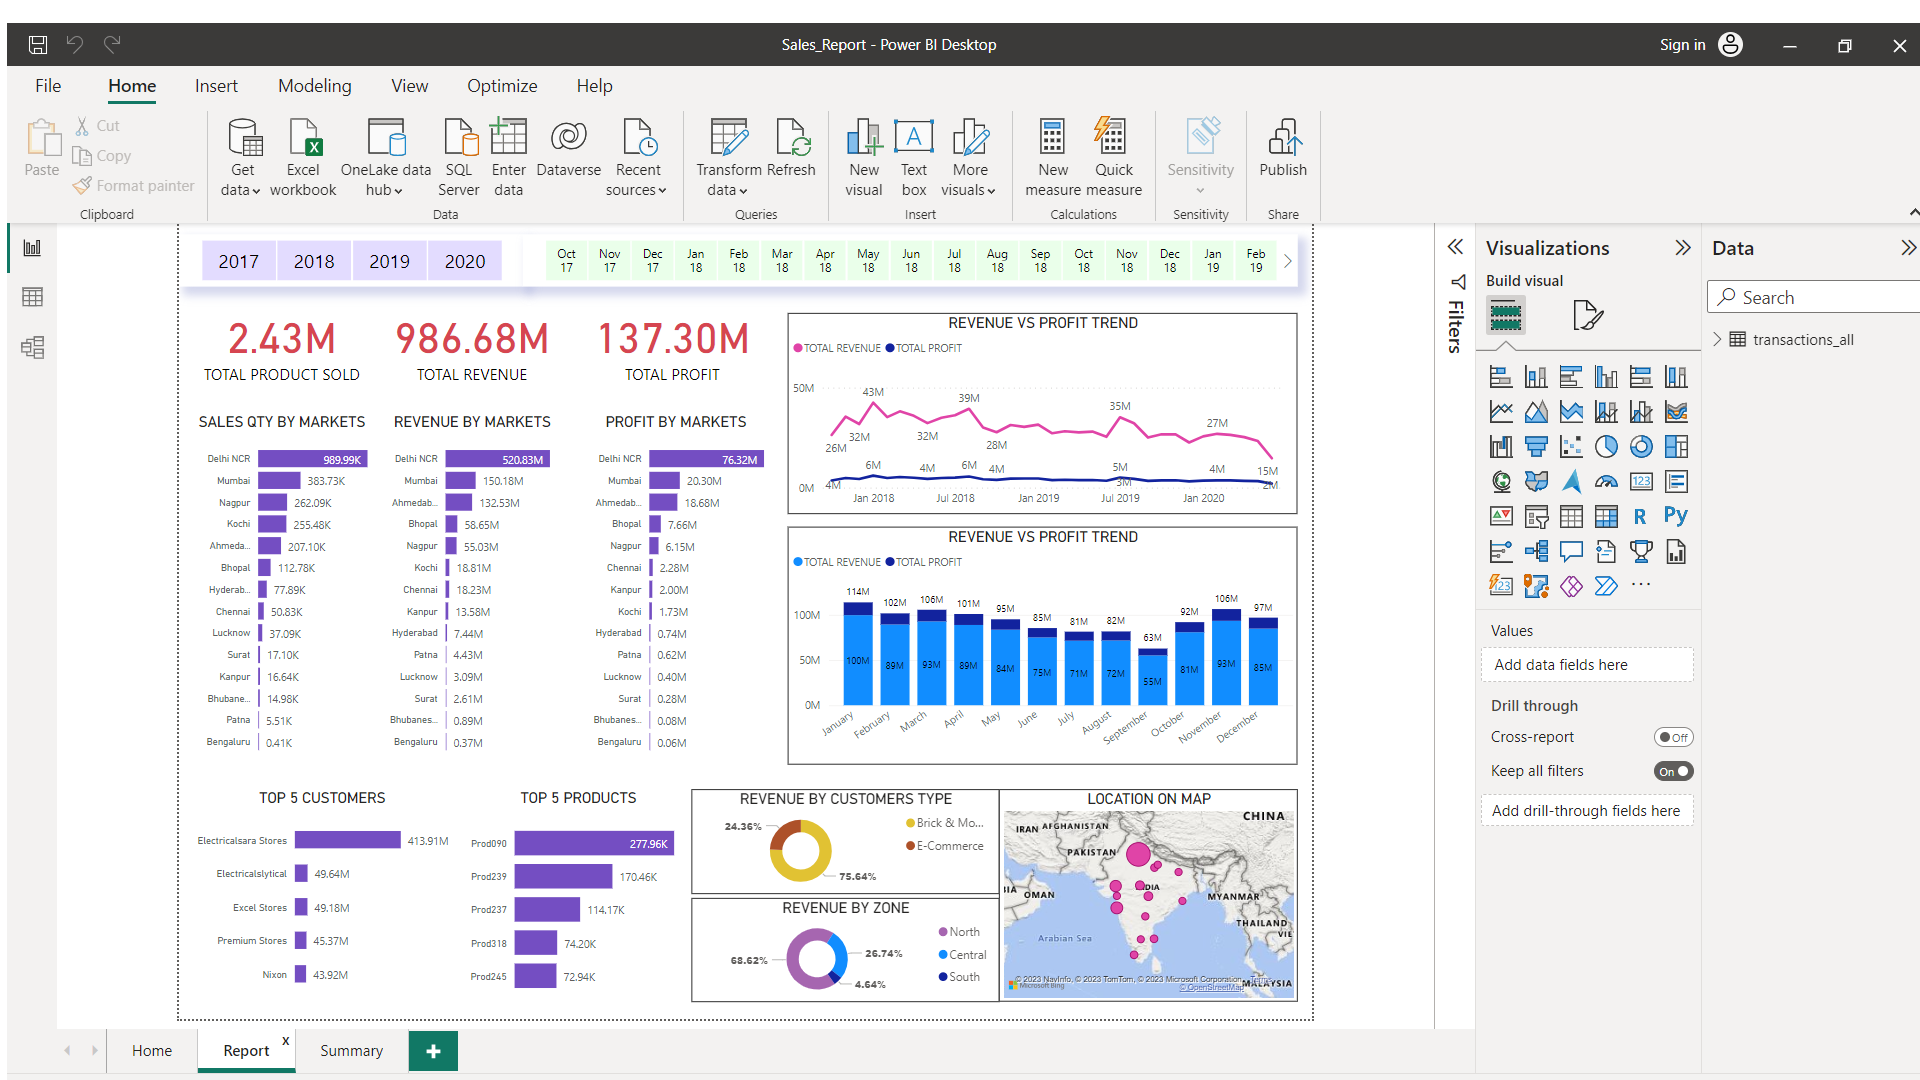

This screenshot's page, from the dashboard's own definition file:
{"tool":"powerbi","page":{"name":"Report","canvas":[1280,900],"ordinal":1},"visuals":[{"type":"card","fields":{"Values":["transactions_all.TOTAL PRODUCT SOLD"]},"box":[13,87.2,207.5,95.2],"z":0},{"type":"card","fields":{"Values":["transactions_all.TOTAL REVENUE"]},"box":[220.5,87.2,221.5,95.2],"z":1000},{"type":"card","fields":{"Values":["transactions_all.TOTAL PROFIT"]},"box":[442,87.2,231.5,95.2],"z":2000},{"type":"slicer","fields":{"Values":["transactions_all.year"]},"box":[0,13,388.9,59.1],"z":3000},{"type":"slicer","fields":{"Values":["transactions_all.cy_date"]},"box":[388.9,13,876.1,59.1],"z":4000},{"type":"barChart","title":"REVENUE BY MARKETS","fields":{"Category":["transactions_all.market_name"],"Y":["transactions_all.TOTAL REVENUE"]},"box":[220.8,215.4,221.8,395.9],"z":5000},{"type":"barChart","title":"SALES QTY BY MARKETS","fields":{"Category":["transactions_all.market_name"],"Y":["Sum(transactions_all.sales_qty)"]},"box":[12.7,215.4,207,395.9],"z":6000},{"type":"barChart","title":"PROFIT BY MARKETS","fields":{"Category":["transactions_all.market_name"],"Y":["transactions_all.TOTAL PROFIT"]},"box":[451.1,215.4,221.8,395.9],"z":7000},{"type":"map","title":"LOCATION ON MAP","fields":{"Size":["Sum(transactions_all.sales_amount)"],"Category":["transactions_all.market_name"]},"box":[926.6,639.9,337.6,240.2],"z":8000},{"type":"barChart","title":"TOP 5 CUSTOMERS","fields":{"Category":["transactions_all.custmer_name"],"Y":["transactions_all.TOTAL REVENUE"]},"box":[14.4,639.9,295.6,240.2],"z":9000},{"type":"barChart","title":"TOP 5 PRODUCTS","fields":{"Y":["Sum(transactions_all.sales_qty)"],"Category":["transactions_all.product_code"]},"box":[323.2,639.9,255.7,245.8],"z":10000},{"type":"lineChart","title":"REVENUE VS PROFIT TREND","fields":{"Category":["transactions_all.cy_date"],"Y":["transactions_all.TOTAL REVENUE","transactions_all.TOTAL PROFIT"]},"box":[688.6,101.8,575.6,226.9],"z":11000},{"type":"donutChart","title":"REVENUE BY CUSTOMERS TYPE","fields":{"Y":["transactions_all.TOTAL REVENUE"],"Category":["transactions_all.customer_type"]},"box":[579,639.9,347.6,118.5],"z":12000},{"type":"donutChart","title":"REVENUE BY ZONE","fields":{"Y":["transactions_all.TOTAL REVENUE"],"Category":["transactions_all.zone"]},"box":[579,762.7,347.6,117.3],"z":13000},{"type":"columnChart","title":"REVENUE VS PROFIT TREND","fields":{"Category":["transactions_all.month_name"],"Y":["transactions_all.TOTAL REVENUE","transactions_all.TOTAL PROFIT"]},"box":[688.6,343.2,575.6,269],"z":14000}]}

Visuals, with their boxes on the page's 1280x900 design canvas (x1, y1, x2, y2). These are canvas units, not pixel positions in the 1920x1080 screenshot, which may show the page scaled, cropped or inside an application window:
card - transactions_all.TOTAL PRODUCT SOLD: 13, 87, 220, 182
card - transactions_all.TOTAL REVENUE: 220, 87, 442, 182
card - transactions_all.TOTAL PROFIT: 442, 87, 674, 182
slicer - transactions_all.year: 0, 13, 389, 72
slicer - transactions_all.cy_date: 389, 13, 1265, 72
"REVENUE BY MARKETS" barChart: 221, 215, 443, 611
"SALES QTY BY MARKETS" barChart: 13, 215, 220, 611
"PROFIT BY MARKETS" barChart: 451, 215, 673, 611
"LOCATION ON MAP" map: 927, 640, 1264, 880
"TOP 5 CUSTOMERS" barChart: 14, 640, 310, 880
"TOP 5 PRODUCTS" barChart: 323, 640, 579, 886
"REVENUE VS PROFIT TREND" lineChart: 689, 102, 1264, 329
"REVENUE BY CUSTOMERS TYPE" donutChart: 579, 640, 927, 758
"REVENUE BY ZONE" donutChart: 579, 763, 927, 880
"REVENUE VS PROFIT TREND" columnChart: 689, 343, 1264, 612
